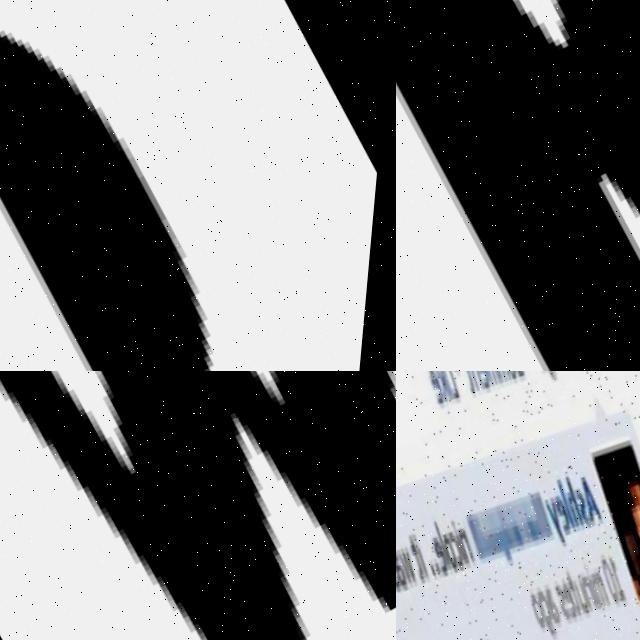0: (592, 540, 640, 597)
1: (603, 542, 640, 590)
C: (0, 30, 223, 371)
M: (396, 0, 640, 371)
W: (0, 371, 396, 640)
